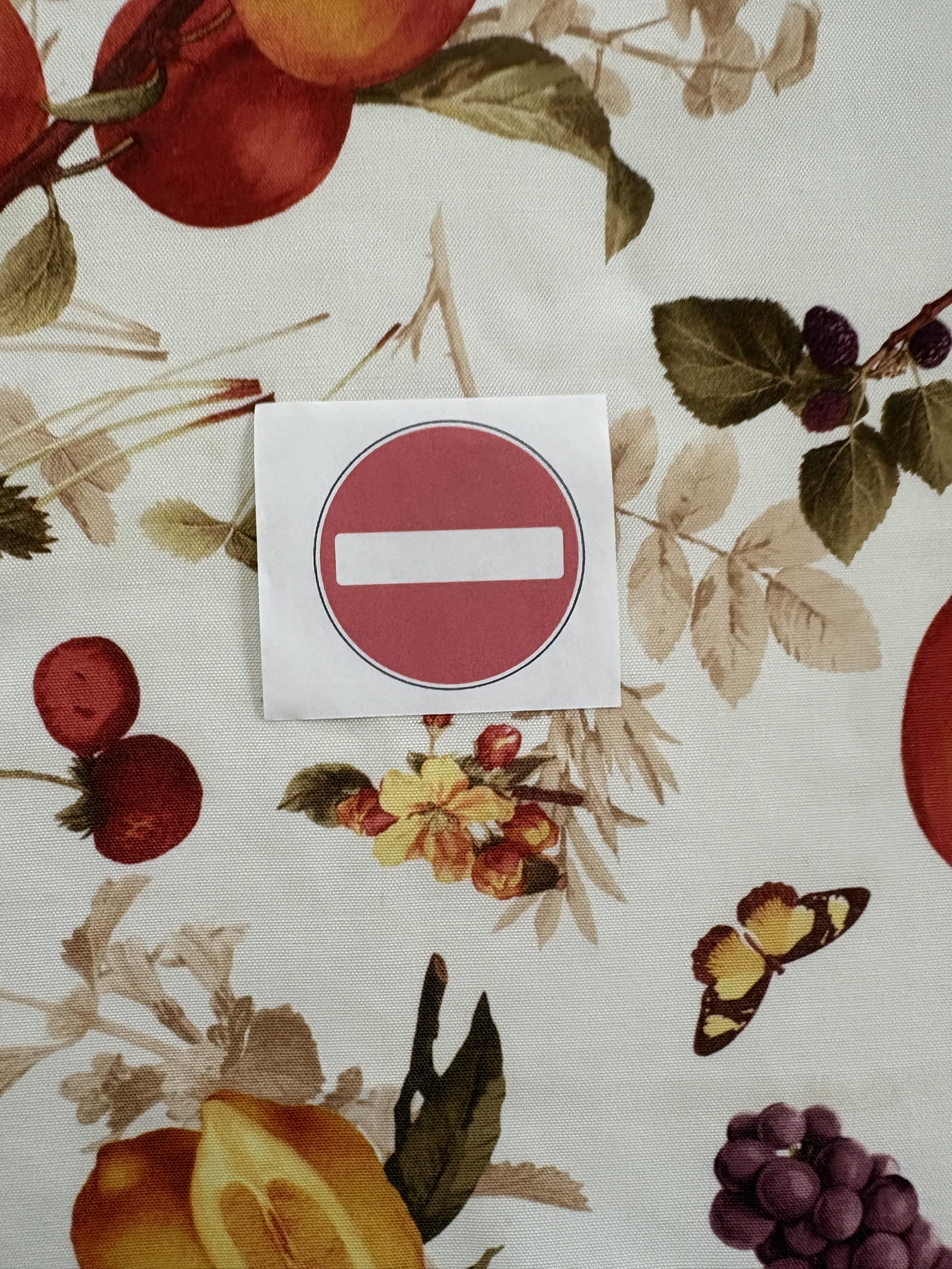No Entry: (258, 406, 619, 709)
